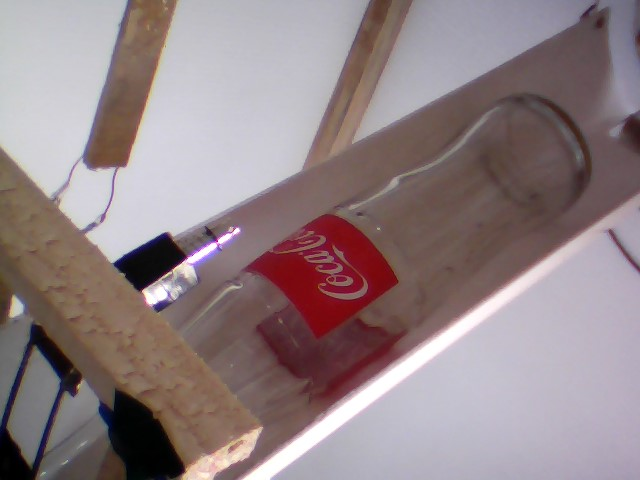vidrio: (175, 86, 601, 437)
